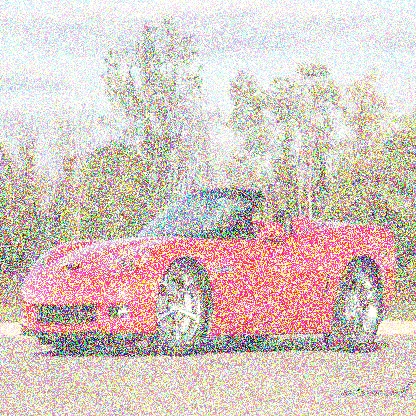Vehicle: (17, 173, 399, 361)
